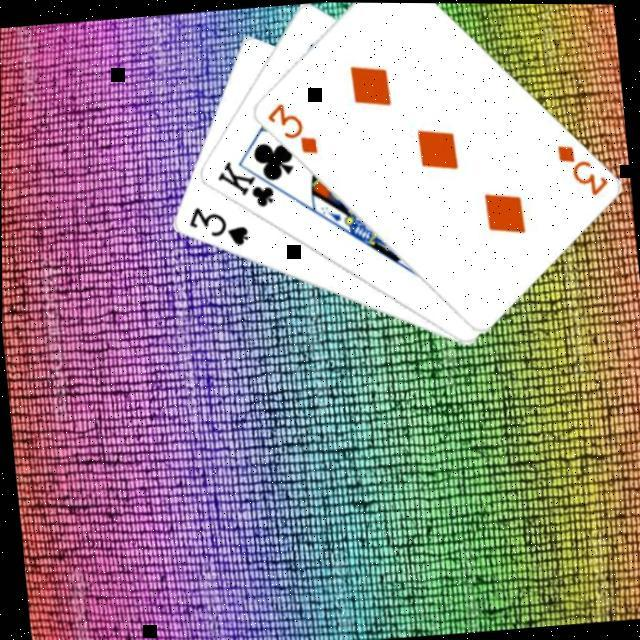3D: (263, 94, 322, 158), (553, 134, 612, 198)
3S: (184, 197, 253, 250)
KC: (212, 151, 290, 211)
